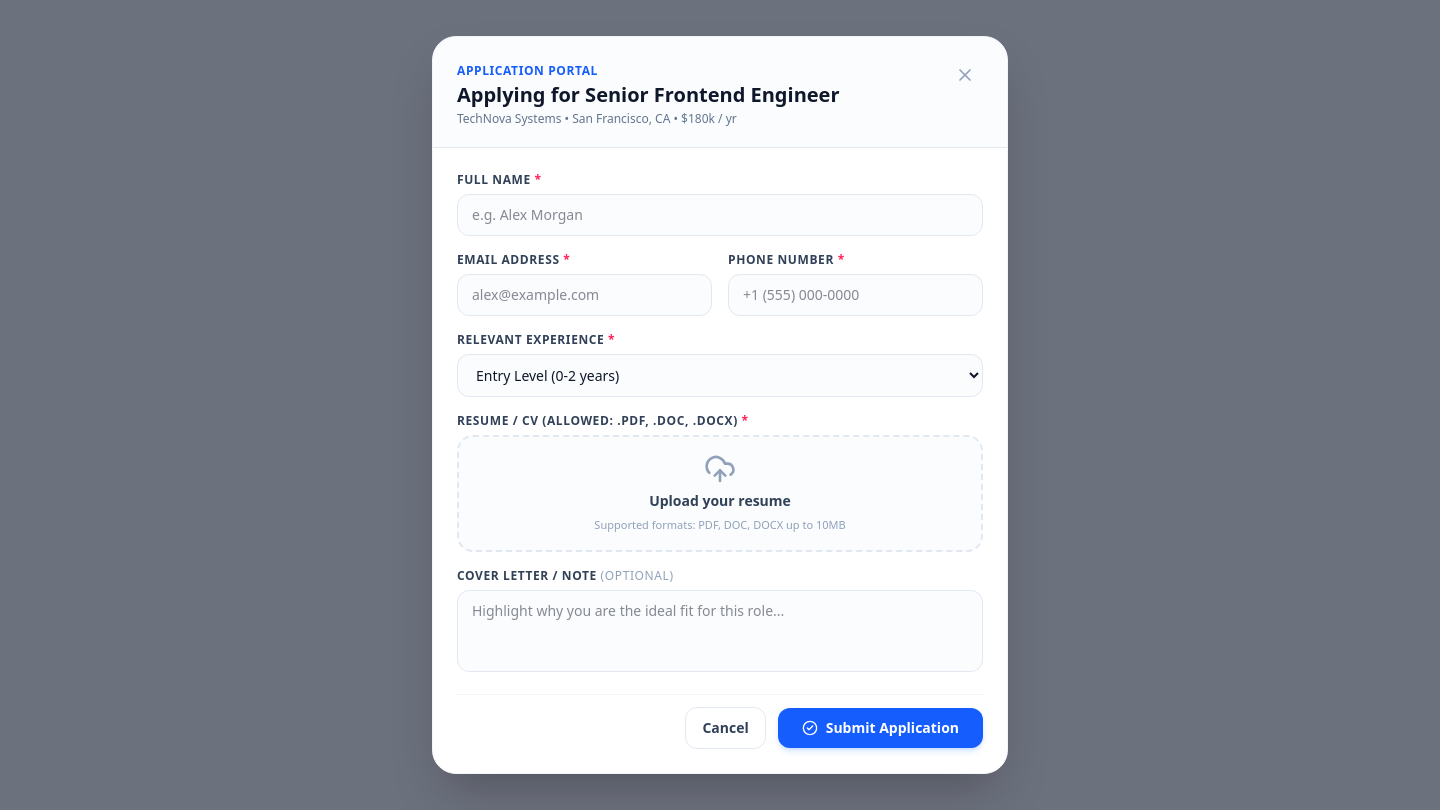
BUG-06 — Required-field validation guard (handleSubmit) › BUG-06-C: submitting with only email filled should be blocked
Type "alice@example.com" into the field with placeholder "alex@example.com" at [584, 295], box 457,274 -> 712,316
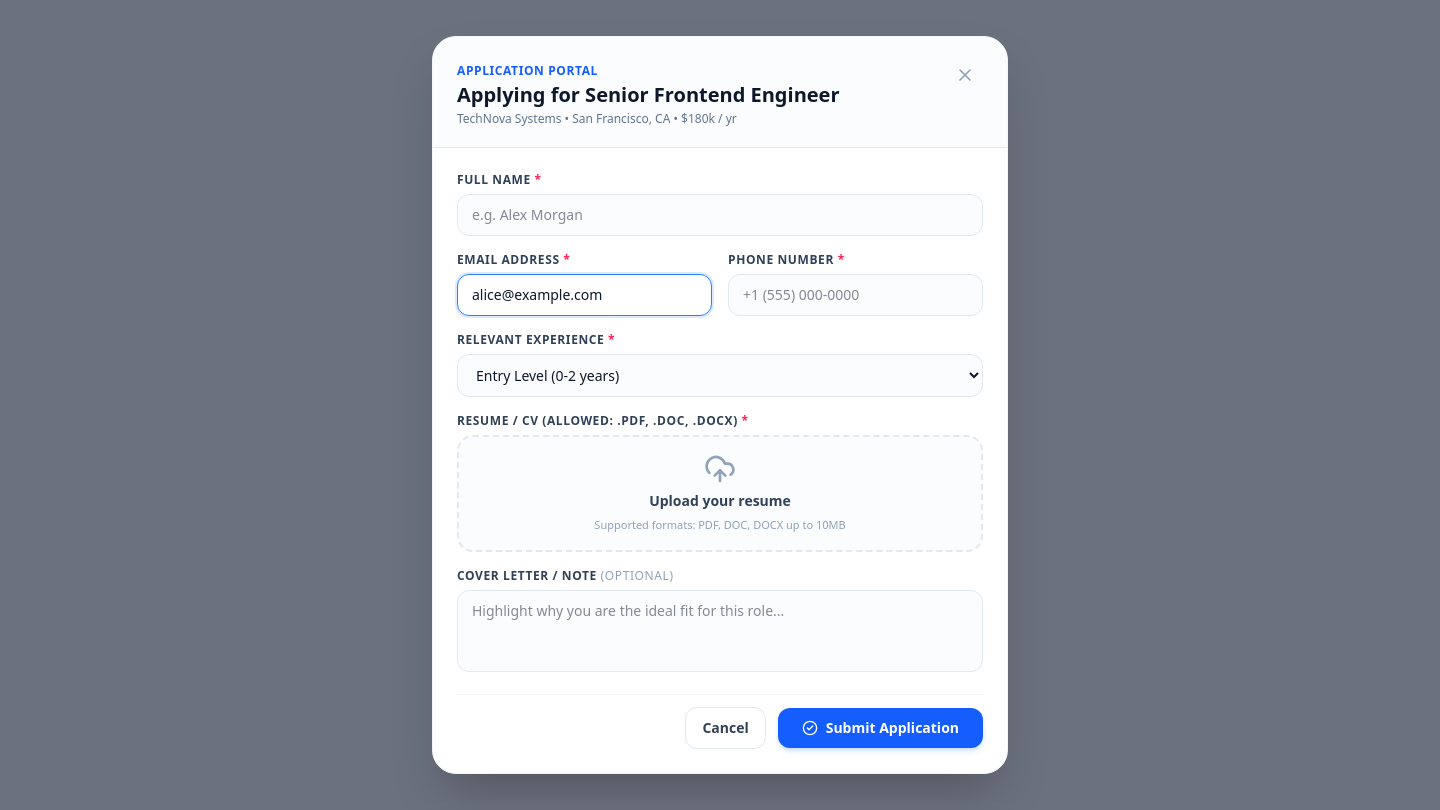
Click the button "Submit Application" at [880, 728], box 778,708 -> 983,748
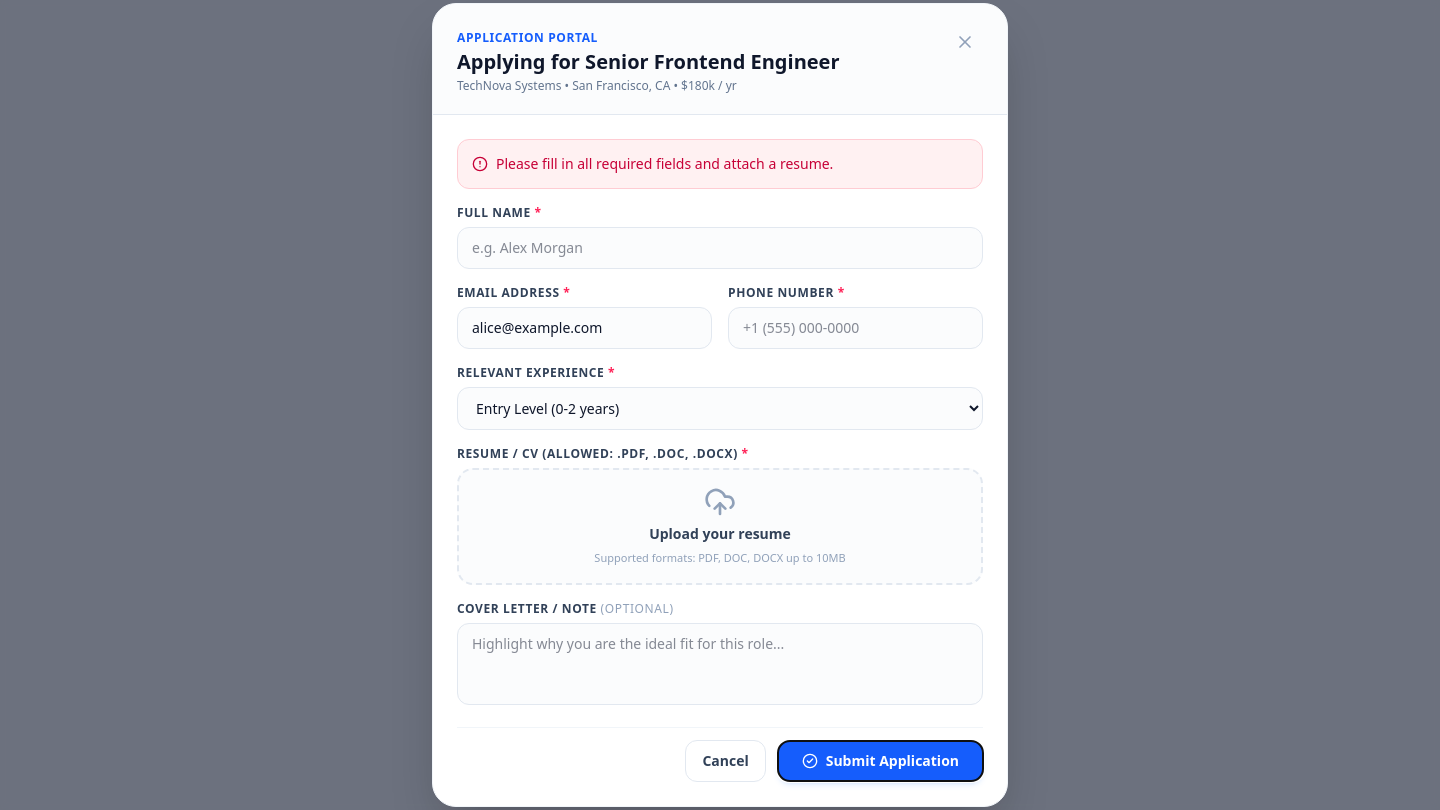
Check: the text "Please fill in all required fields and attach a resume." is shown, box 496,154 -> 833,174
